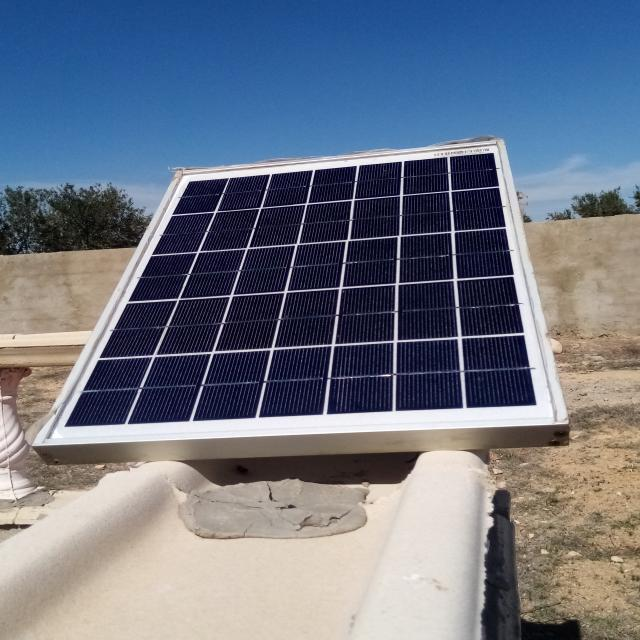no faulty: (37, 140, 562, 443)
